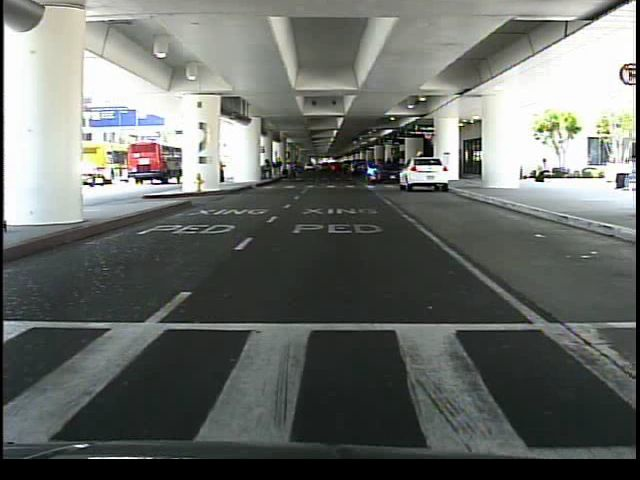person: (528, 153, 556, 190)
